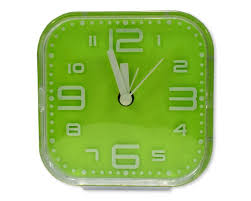alarm_clock: (37, 12, 218, 190)
